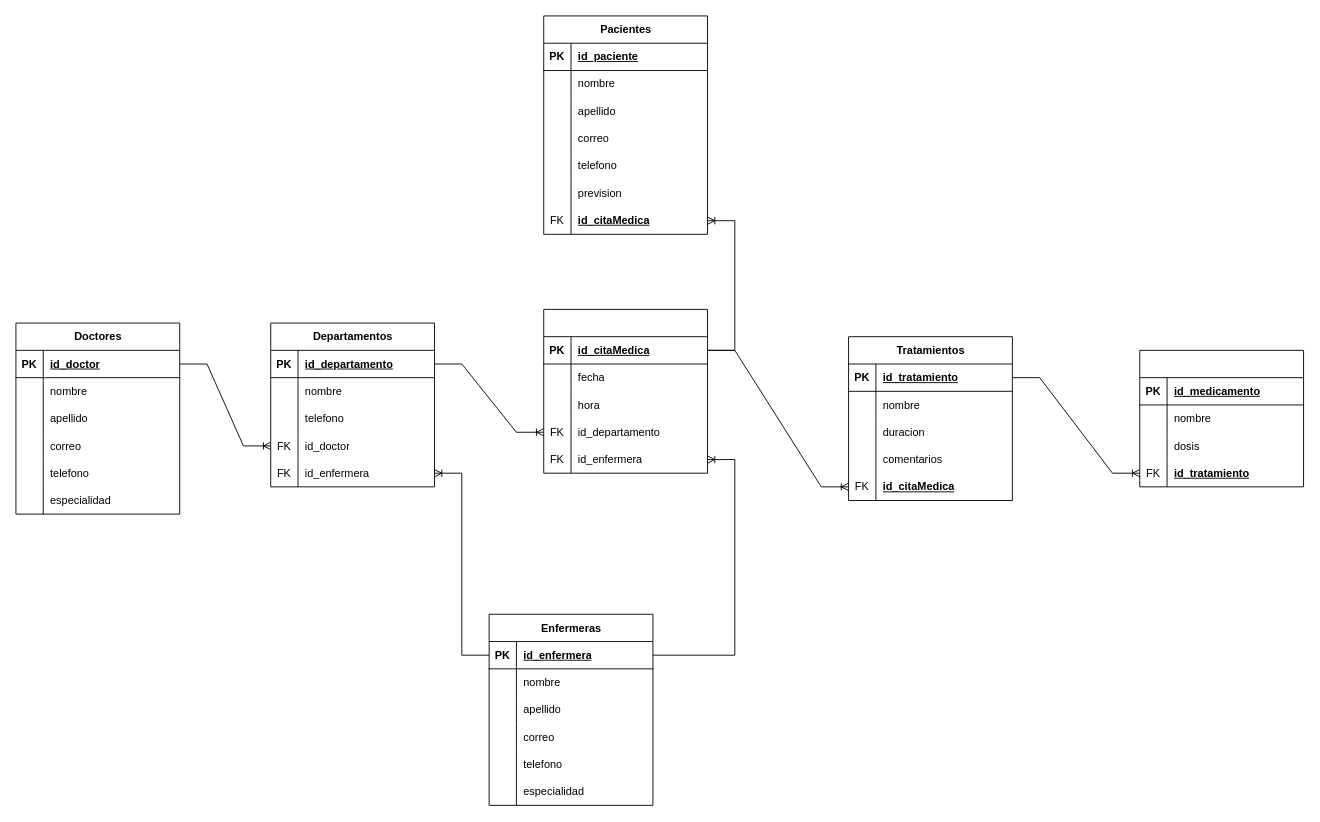
Some shapes in this 1320 by 822 pixel diagram are drawn without their labels. The shapes that lost their labels are listed below. From the top down, each one's box as (x1, y1, x2, y2) in pixels, then its label:
(543, 308, 708, 473): Citas Medicas
(1139, 349, 1304, 487): Medicamentos
